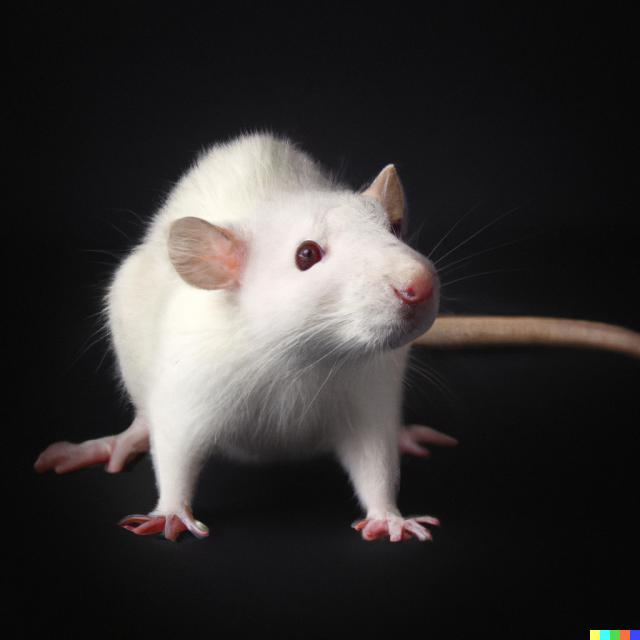rodents: (97, 122, 487, 563)
